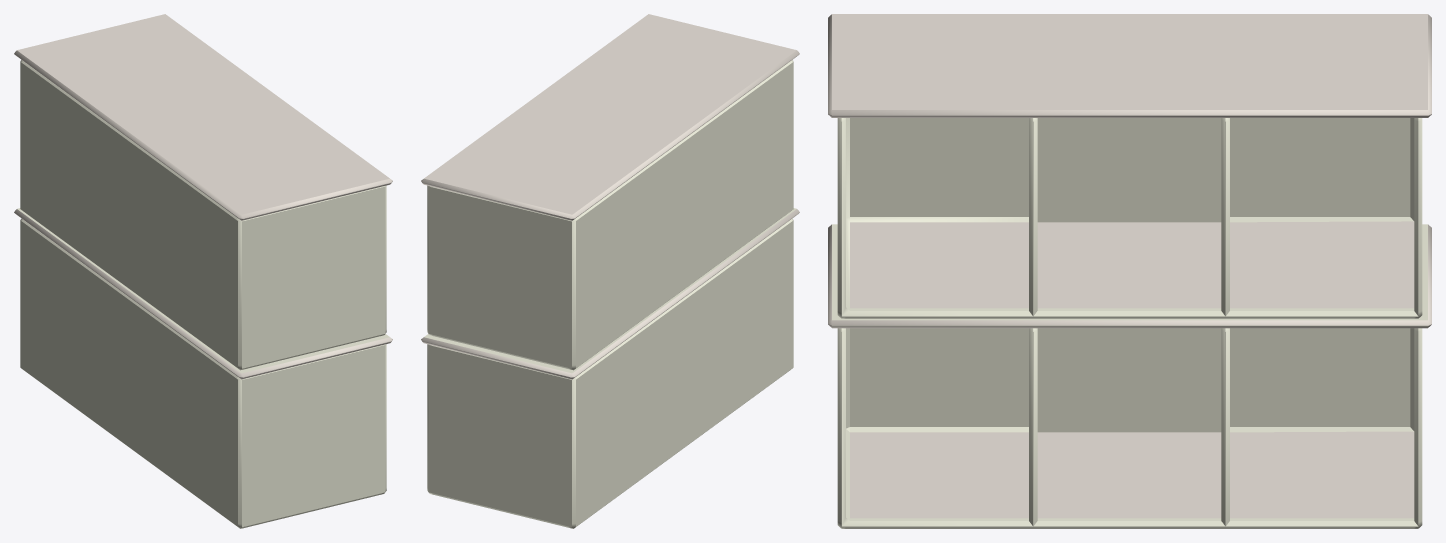
File: SeitenRegal.fbx
3 views of the same model, side by side, from view 1: azimuth 30°, elevation 25°; view 2: azimuth 150°, elevation 25°; view 3: azimuth 270°, elevation 25° (orthographic). The views are drawn at different scales.
Parts seen in each view (by area): view 1: Regal.001; view 2: Regal.001; view 3: Regal.001.
Part boxes in pixels (bbox=[...]): Regal.001: bbox=[14, 14, 392, 528]; Regal.001: bbox=[421, 14, 799, 528]; Regal.001: bbox=[828, 14, 1431, 528].
Size of the model in its own units: 39.69 by 78.25 by 102.
